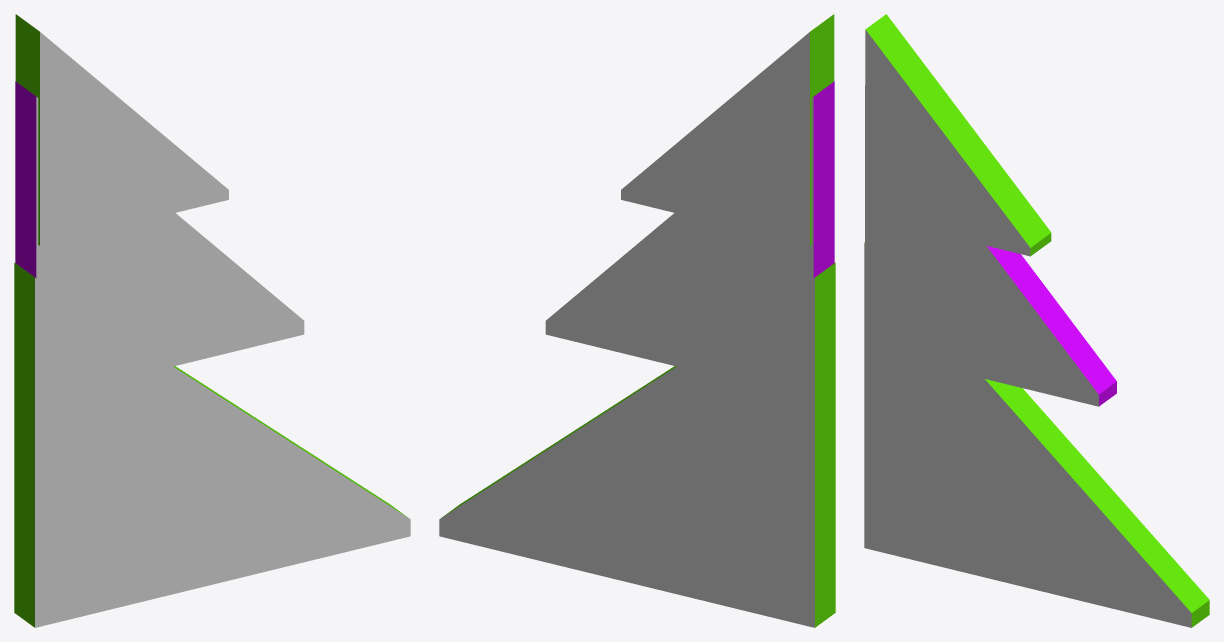
Rendered from üstk_lv4.fbx.
The picture shows the model from 3 angles, left to right: view 1: azimuth 30°, elevation 25°; view 2: azimuth 150°, elevation 25°; view 3: azimuth 330°, elevation 25°; orthographic projection. The views are drawn at different scales.
Visible parts, largest first — view 1: üstk_lv4; view 2: üstk_lv4; view 3: üstk_lv4.
Boxes of the visible parts, x1,y1,x2,y2 form: üstk_lv4: (14,14,410,627); üstk_lv4: (439,14,835,627); üstk_lv4: (864,14,1209,627).
Size of the model in its own units: 80.67 by 122 by 8.98.
